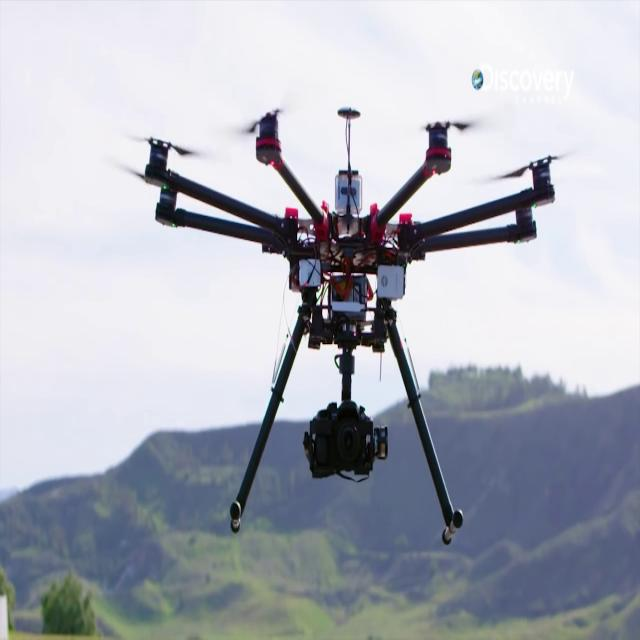drone: (140, 48, 566, 549)
